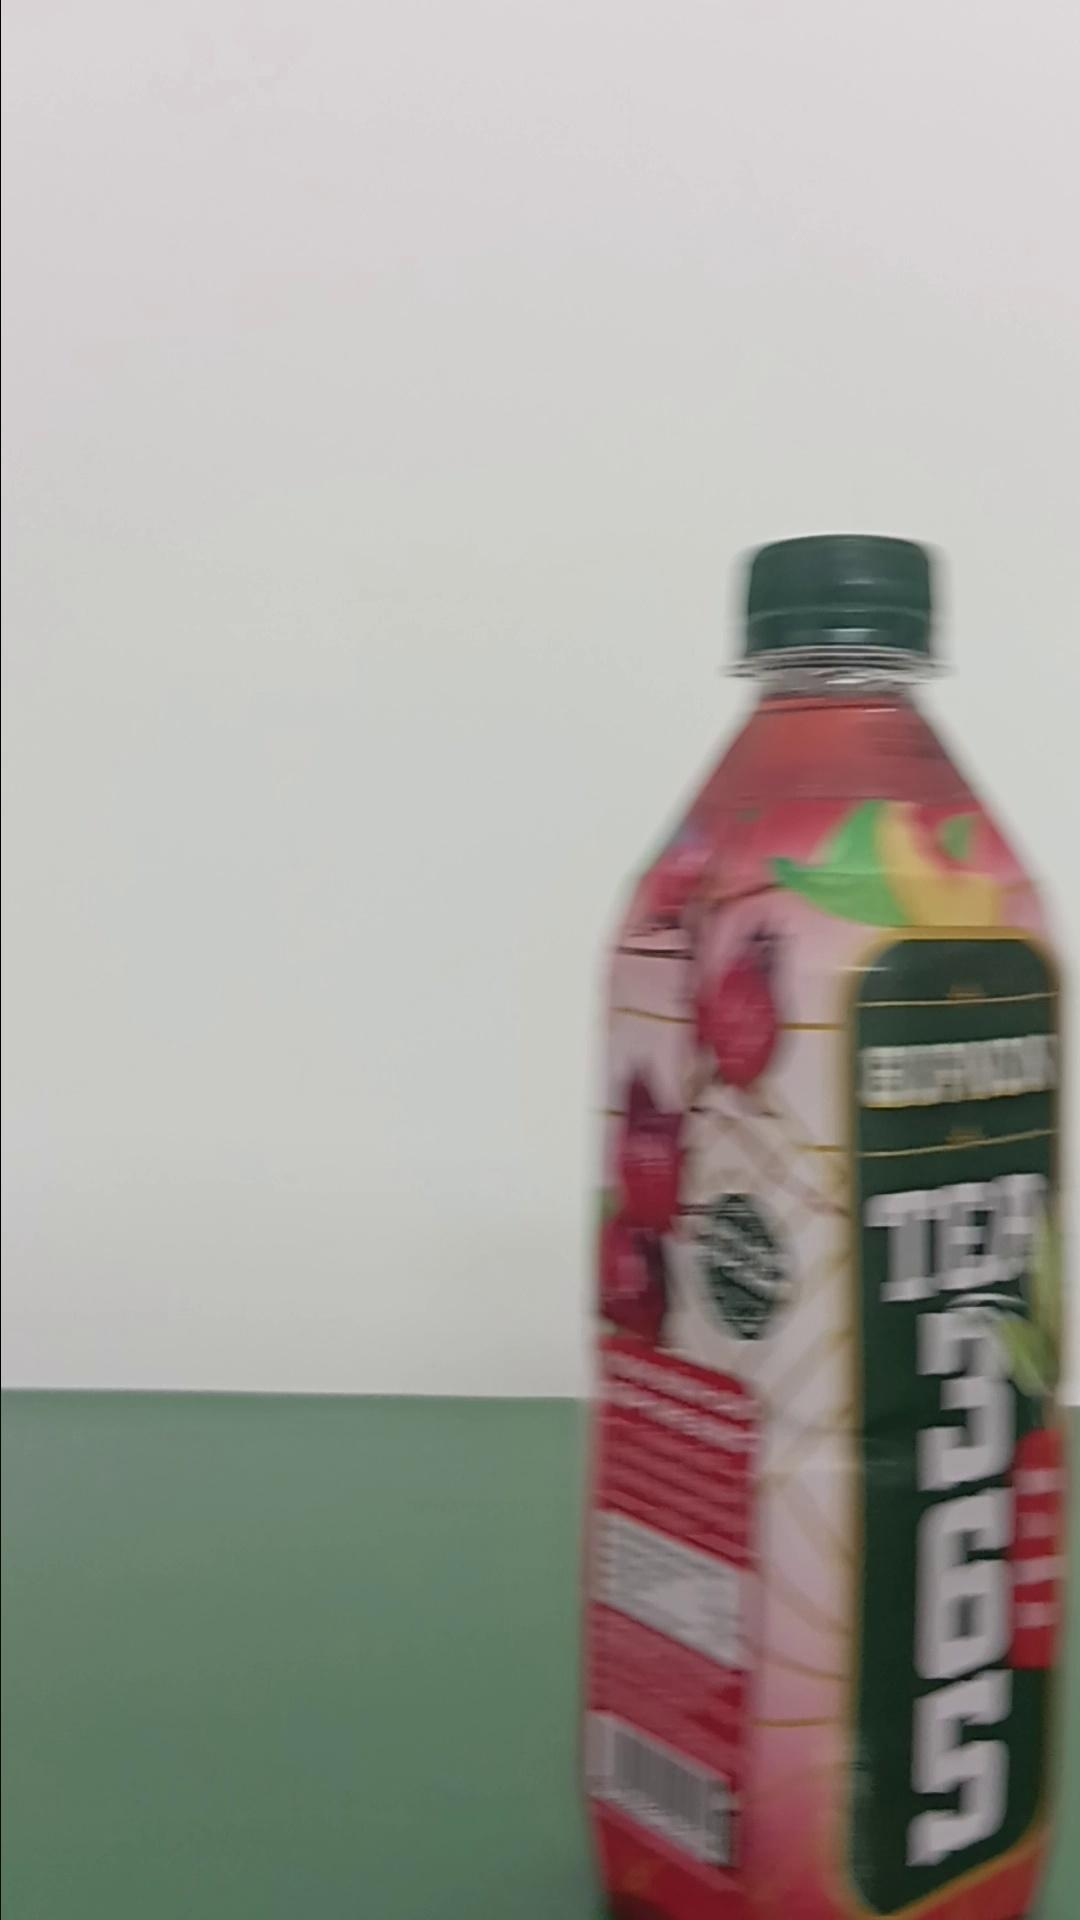khong loi: (576, 531, 1069, 1915)
